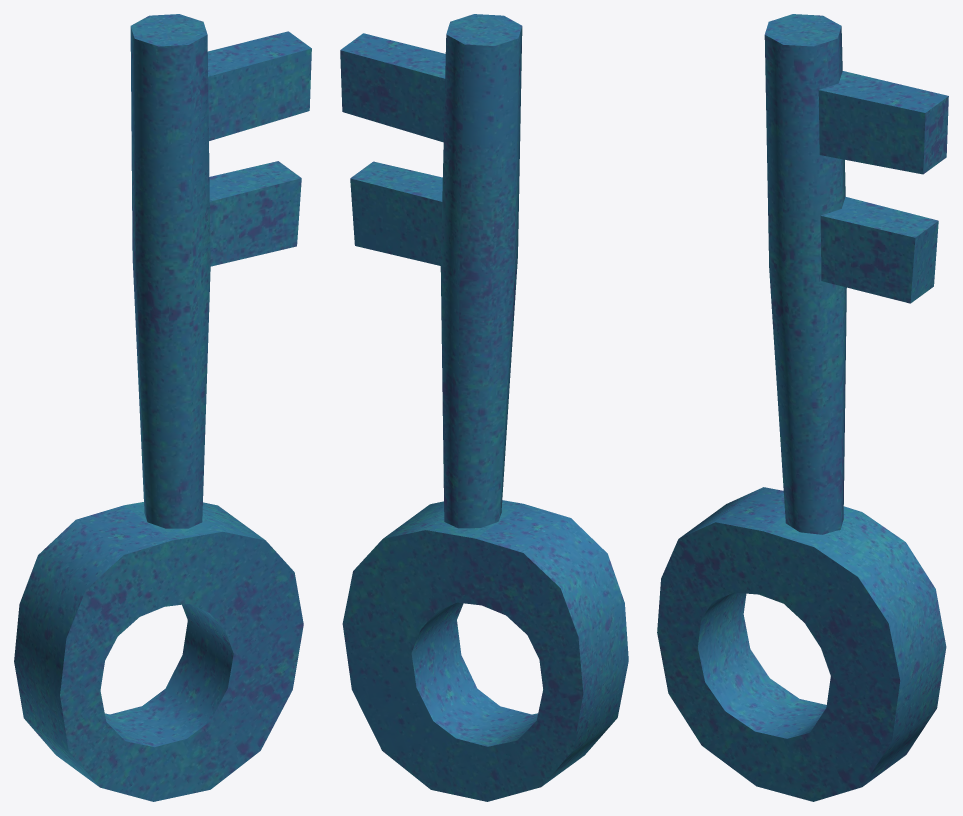
3 renders of one model, left to right at view 1: azimuth 30°, elevation 25°; view 2: azimuth 150°, elevation 25°; view 3: azimuth 330°, elevation 25°, orthographic.
Visible parts, largest first — view 1: Object_11; view 2: Object_11; view 3: Object_11.
Boxes of the visible parts, box(x1,y1,x2,y2) form: Object_11: box(14, 14, 311, 801); Object_11: box(340, 14, 628, 801); Object_11: box(657, 14, 948, 801).
Bounding box in the file's own units: 0.0954 × 0.2644 × 0.0313.
Materials: 1 (1 with a texture image).
